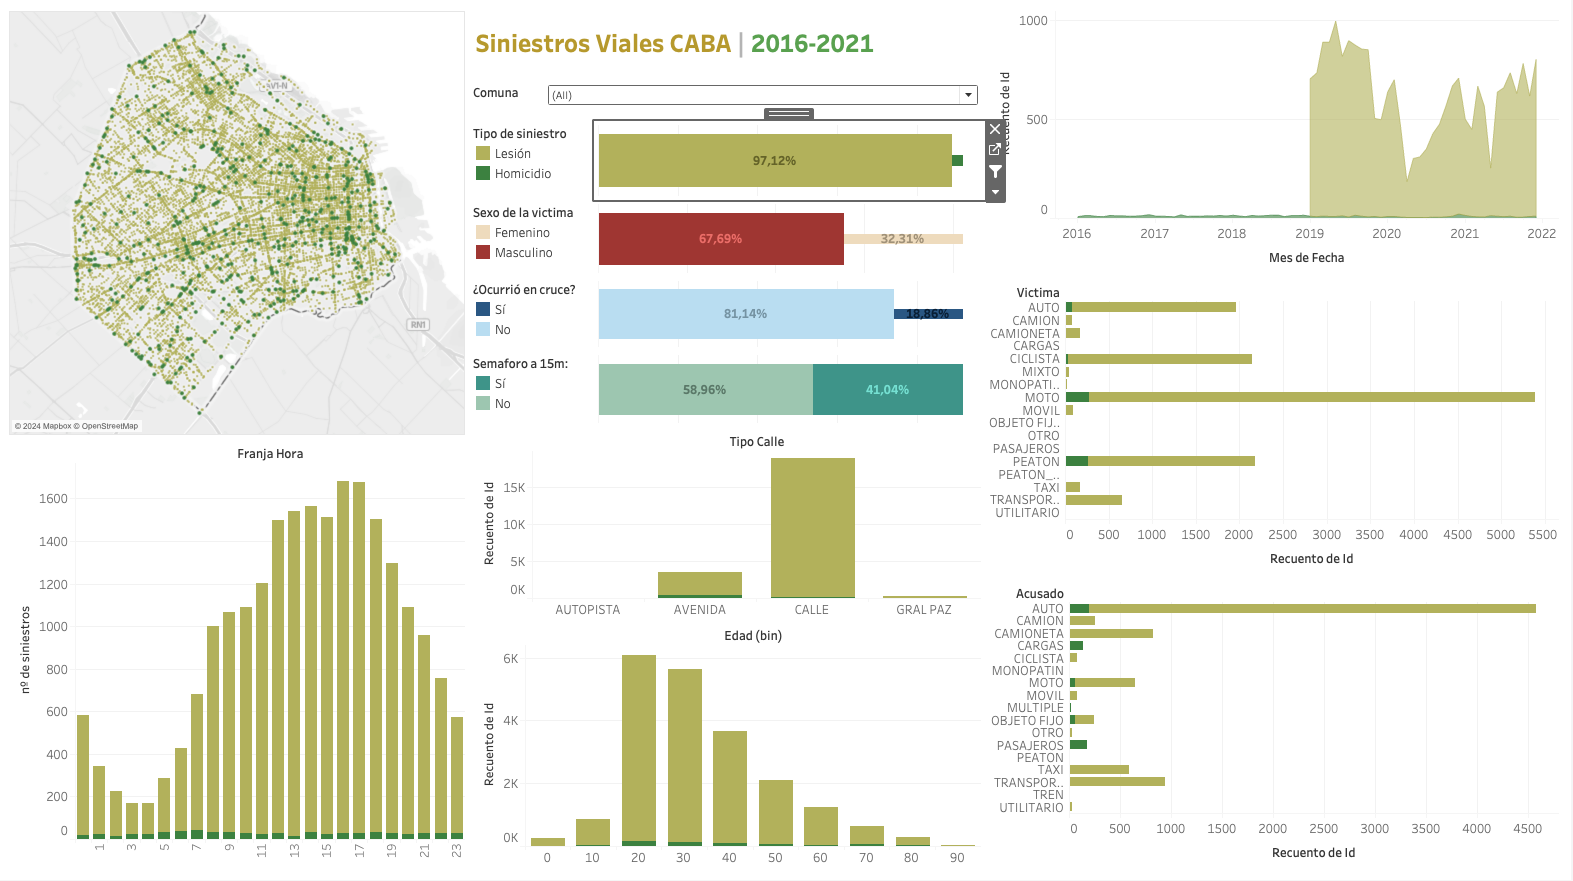

Layout of this report page (visuals, bound fields, positions):
{"tool":"tableau","page":{"name":"Tablero 1","canvas":[1000,1000],"units":"permille","ordinal":1},"visuals":[{"type":"worksheet","title":"mapa","mark":"Automatic","rows":["Latitud"],"cols":["Longitud"],"box":[5.1,9.1,332.6,490.9]},{"type":"title","box":[337.6,9.1,348.5,80.3]},{"type":"worksheet","title":"victima","mark":"Automatic","rows":["Victima"],"cols":["Id"],"box":[686.1,9.1,308.8,360.9]},{"type":"filter","title":"mapa","param":"[federated.0k5duec1688vot1citf2f15isno2].[none:Comuna:nk]","box":[337.6,89.3,348.5,48.8]},{"type":"legend","title":"datset","param":"[federated.0k5duec1688vot1citf2f15isno2].[none:Dataset:nk]","box":[337.6,138.1,86.4,89.9]},{"type":"worksheet","title":"datset","mark":"Automatic","cols":["Id"],"box":[424,138.1,262.1,89.9]},{"type":"legend","title":"sexo","param":"[federated.0k5duec1688vot1citf2f15isno2].[none:Sexo:nk]","box":[337.6,228,86.4,87.4]},{"type":"worksheet","title":"sexo","mark":"Automatic","cols":["Id"],"box":[424,228,262.1,87.4]},{"type":"legend","title":"cruce","param":"[federated.0k5duec1688vot1citf2f15isno2].[none:Cruce:nk]","box":[337.6,315.4,84.4,84]},{"type":"worksheet","title":"cruce","mark":"Automatic","cols":["Id"],"box":[422.1,315.4,264.1,84]},{"type":"worksheet","title":"acusado","mark":"Automatic","rows":["Acusado"],"cols":["Id"],"box":[686.1,370,308.8,375.7]},{"type":"legend","title":"semaforo","param":"[federated.0k5duec1688vot1citf2f15isno2].[none:semaforo_15m:nk]","box":[337.6,399.4,84.3,101.1]},{"type":"worksheet","title":"semaforo","mark":"Automatic","cols":["Id"],"box":[421.9,399.4,264.3,101.1]},{"type":"worksheet","title":"tipo de calle","mark":"Automatic","rows":["Id"],"cols":["Tipo_Calle"],"box":[5.1,500,332.6,245.5]},{"type":"worksheet","title":"callespeligrosas","mark":"Automatic","box":[337.6,500.6,143,245.2]},{"type":"worksheet","title":"edad","mark":"Automatic","rows":["Id"],"cols":["Edad (bin)"],"box":[480.6,500.6,205.5,245.2]},{"type":"worksheet","title":"siniestrosxdia","mark":"Bar","rows":["Id"],"cols":["Fecha"],"box":[5.1,745.5,332.6,245.5]},{"type":"worksheet","title":"franja horaria","mark":"Automatic","rows":["Id"],"cols":["Franja_Hora"],"box":[337.6,745.7,348.5,245.2]},{"type":"worksheet","title":"siniestros/mes","mark":"Area","rows":["Id"],"cols":["Fecha"],"box":[686.1,745.7,308.8,245.2]}]}

Visuals, with their boxes on the dashboard's canvas, which has no fixed pixel size, in thousandths of its width and height (x1, y1, x2, y2). These are canvas units, not pixel positions in the 1573x881 screenshot, which may show the page scaled, cropped or inside an application window:
"mapa" worksheet: detection(5, 9, 338, 500)
title: detection(338, 9, 686, 89)
"victima" worksheet: detection(686, 9, 995, 370)
"mapa" filter: detection(338, 89, 686, 138)
"datset" legend: detection(338, 138, 424, 228)
"datset" worksheet: detection(424, 138, 686, 228)
"sexo" legend: detection(338, 228, 424, 315)
"sexo" worksheet: detection(424, 228, 686, 315)
"cruce" legend: detection(338, 315, 422, 399)
"cruce" worksheet: detection(422, 315, 686, 399)
"acusado" worksheet: detection(686, 370, 995, 746)
"semaforo" legend: detection(338, 399, 422, 500)
"semaforo" worksheet: detection(422, 399, 686, 500)
"tipo de calle" worksheet: detection(5, 500, 338, 746)
"callespeligrosas" worksheet: detection(338, 501, 481, 746)
"edad" worksheet: detection(481, 501, 686, 746)
"siniestrosxdia" worksheet (Bar marks): detection(5, 746, 338, 991)
"franja horaria" worksheet: detection(338, 746, 686, 991)
"siniestros/mes" worksheet (Area marks): detection(686, 746, 995, 991)
